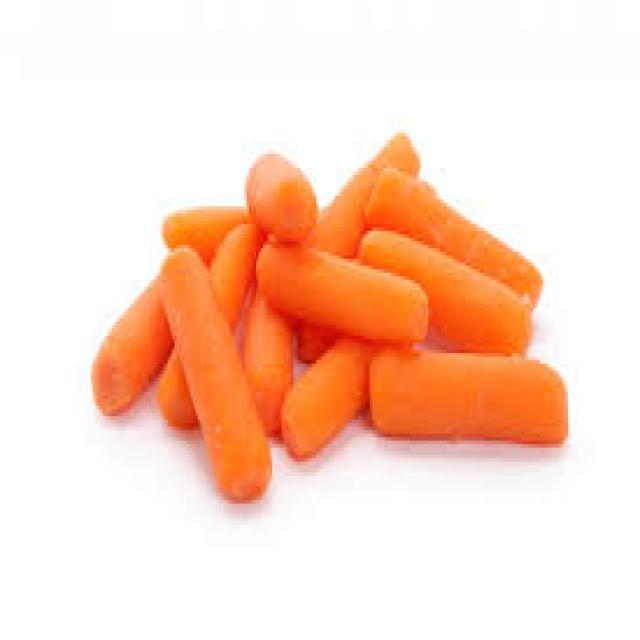Carrot: (165, 243, 281, 522), (359, 350, 587, 468), (348, 172, 550, 303), (358, 233, 543, 364), (78, 238, 201, 430), (247, 231, 435, 345), (211, 123, 323, 255), (275, 328, 391, 454)
